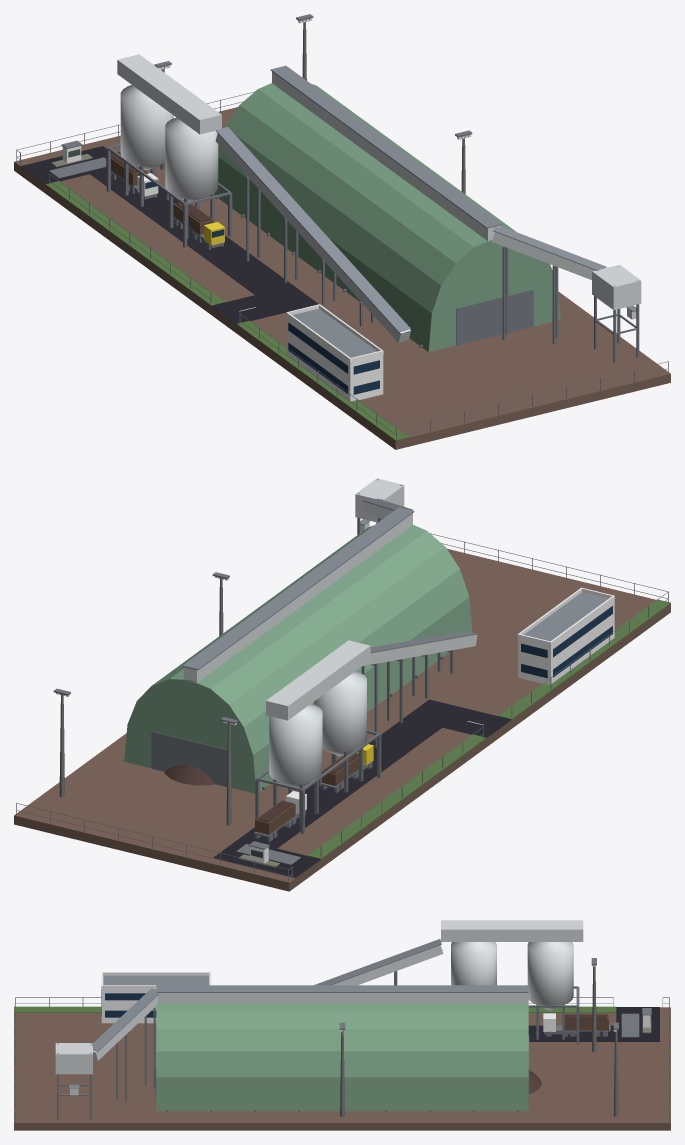
File: top-prebuilt.fbx
3 renders of one model, top to bottom at view 1: azimuth 30°, elevation 25°; view 2: azimuth 150°, elevation 25°; view 3: azimuth 270°, elevation 25°, orthographic. The views are drawn at different scales.
Visible parts, largest first — view 1: a1078_0_top-prebuilt; view 2: a1078_0_top-prebuilt; view 3: a1078_0_top-prebuilt.
Boxes of the visible parts, left/top/right/bottom form: a1078_0_top-prebuilt: left=14, top=14, right=670, bottom=449; a1078_0_top-prebuilt: left=14, top=478, right=670, bottom=891; a1078_0_top-prebuilt: left=14, top=920, right=670, bottom=1130.
Bounding box in the file's own units: 50 × 23.5 × 120.
